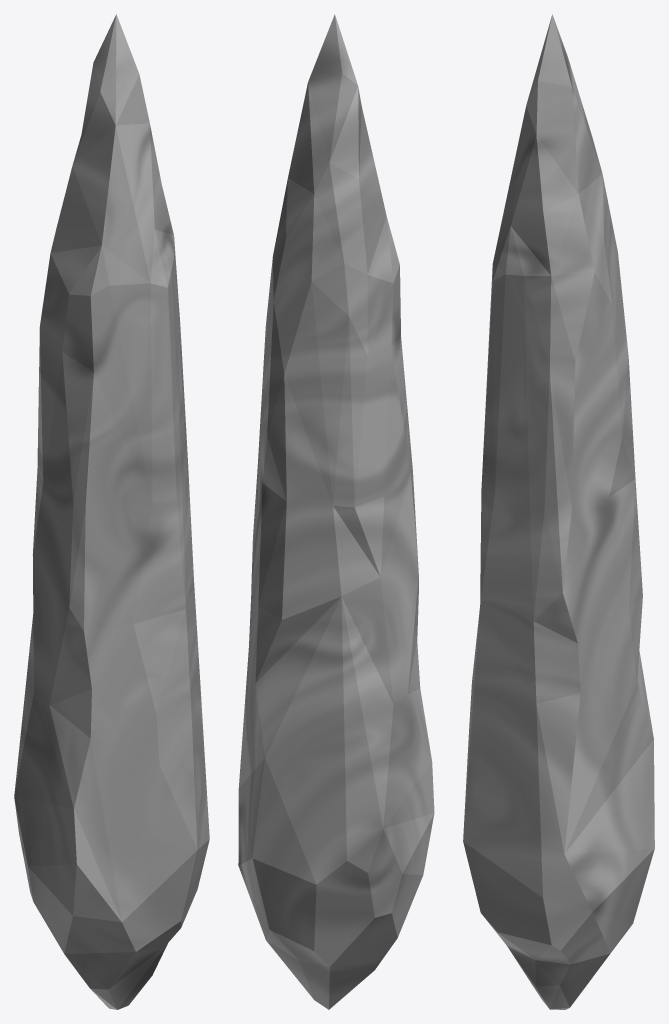
File: Terrain_Bullet.fbx
3 views of the same model, side by side, from view 1: azimuth 30°, elevation 25°; view 2: azimuth 150°, elevation 25°; view 3: azimuth 270°, elevation 25° (orthographic).
Visible parts, largest first — view 1: SM_4E_IceSpike_01.mo; view 2: SM_4E_IceSpike_01.mo; view 3: SM_4E_IceSpike_01.mo.
Boxes of the visible parts, x1,y1,x2,y2 form: SM_4E_IceSpike_01.mo: (14, 14, 209, 1009); SM_4E_IceSpike_01.mo: (238, 14, 434, 1009); SM_4E_IceSpike_01.mo: (463, 14, 654, 1009).
Size of the model in its own units: 0.1356 by 0.7654 by 0.1336.
